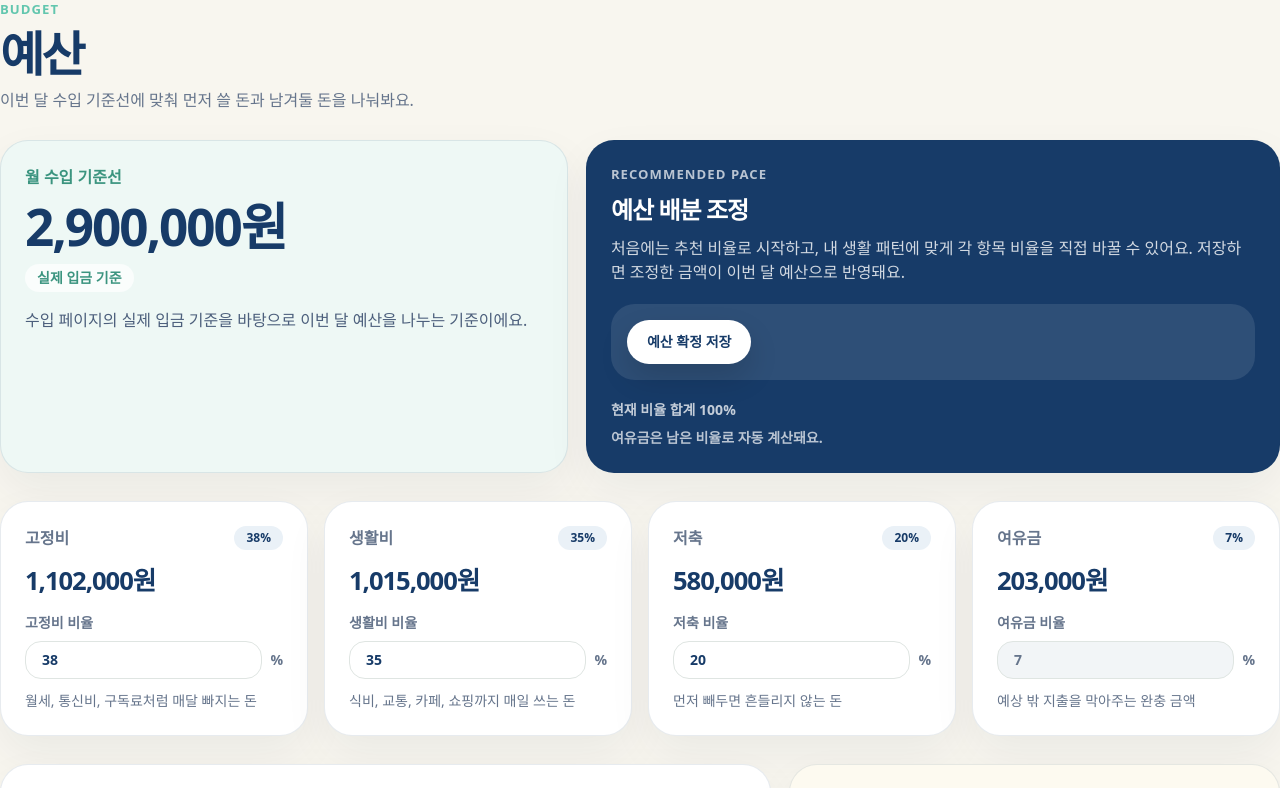
Scenario: BudgetsPage › refreshes category budget progress after saving the budget
What coordinates should you click on to do the following:
click the button "예산 확정 저장"
I would click on:
 (689, 342)
Its box is [627,320,752,364].
(page scrolled)
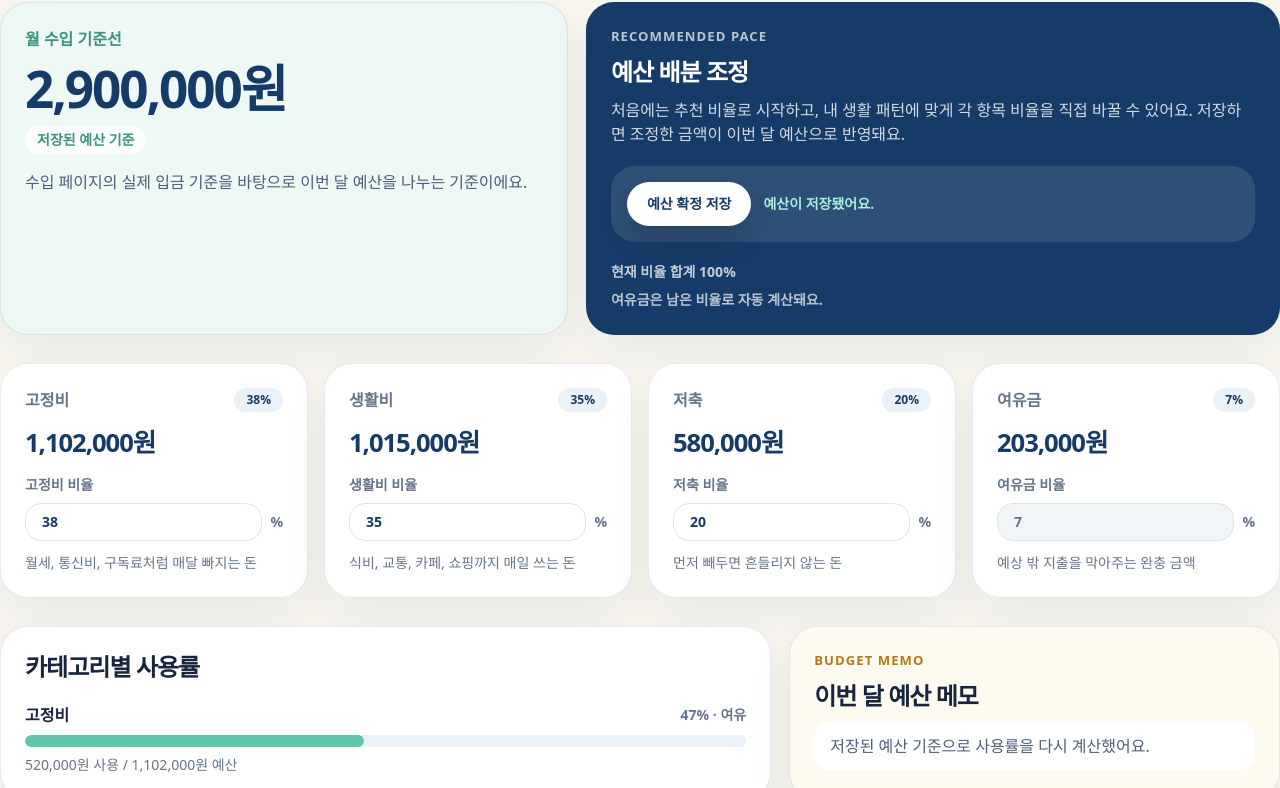
Expected: the text "47% · 여유" is shown, [680,705,746,725]
